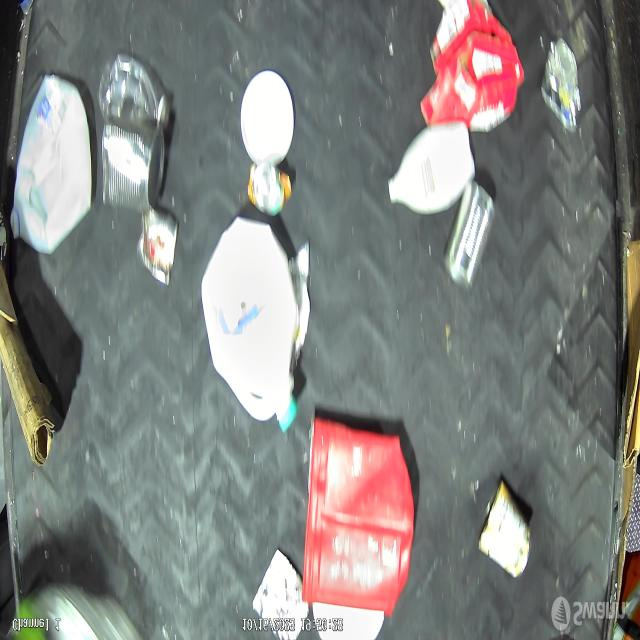can: (442, 180, 498, 286), (100, 124, 168, 210), (478, 476, 536, 576), (245, 164, 293, 216)
milk_jug: (196, 217, 314, 431), (7, 64, 92, 259)
non_white_jug: (302, 421, 416, 615)
plastic_bottle: (98, 48, 174, 122)
